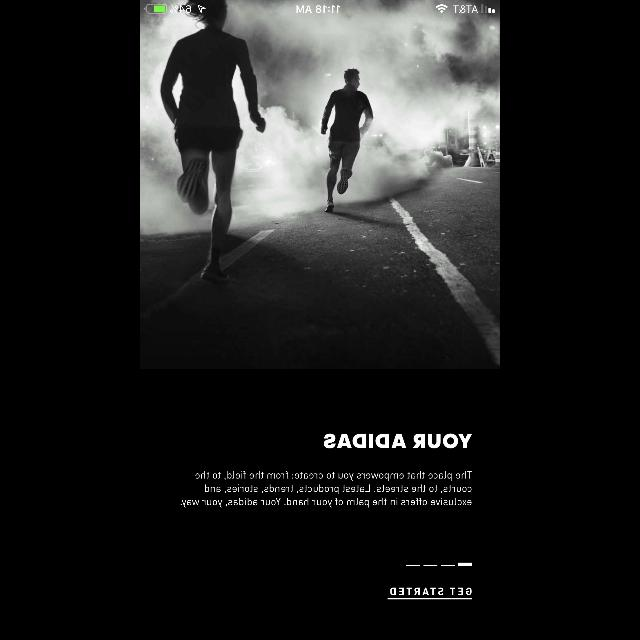image: (140, 1, 500, 369)
pageindicator: (406, 562, 472, 566)
text: (180, 470, 472, 508), (324, 434, 472, 448), (388, 587, 472, 599)
uppertaskbar: (140, 0, 500, 14)
